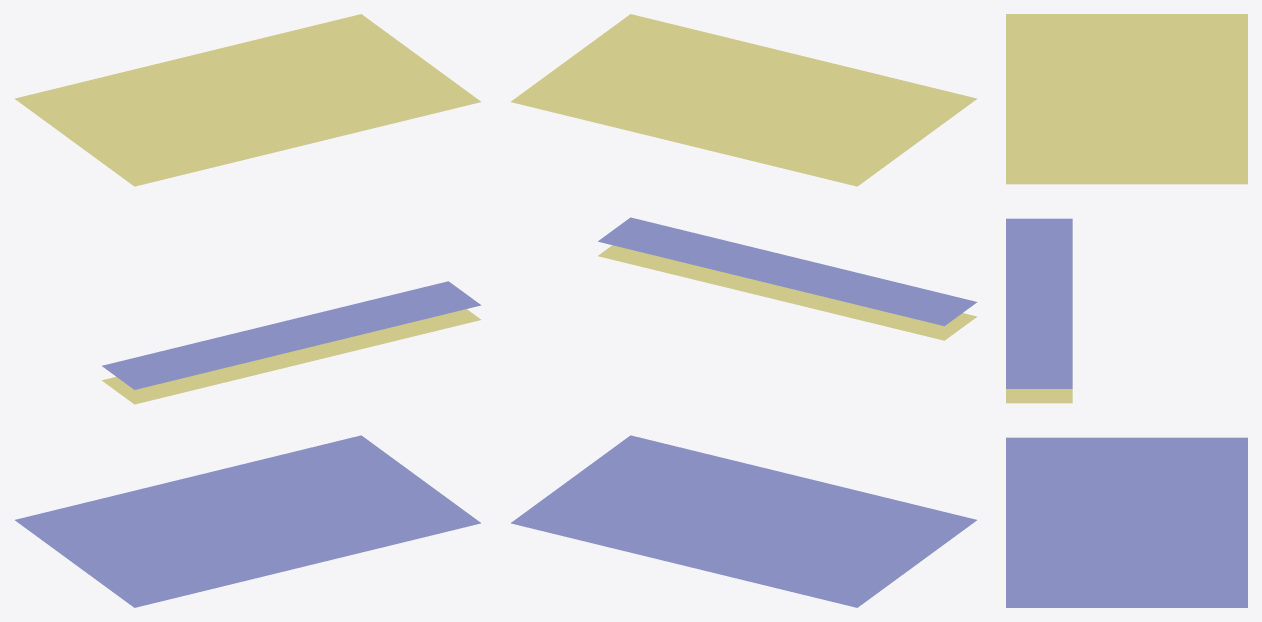
Rendered from Floor_stairs_5x_3x.FBX.
3 views of the same model, side by side, from view 1: azimuth 30°, elevation 25°; view 2: azimuth 150°, elevation 25°; view 3: azimuth 270°, elevation 25° (orthographic).
Parts seen in each view (by area): view 1: Floor_stairs_5x_3x; view 2: Floor_stairs_5x_3x; view 3: Floor_stairs_5x_3x.
Part boxes in pixels (x1,y1,x2,y2): Floor_stairs_5x_3x: (15,14,481,607); Floor_stairs_5x_3x: (511,14,977,607); Floor_stairs_5x_3x: (1006,14,1247,607).
Size of the model in its own units: 500 by 300 by 580.
